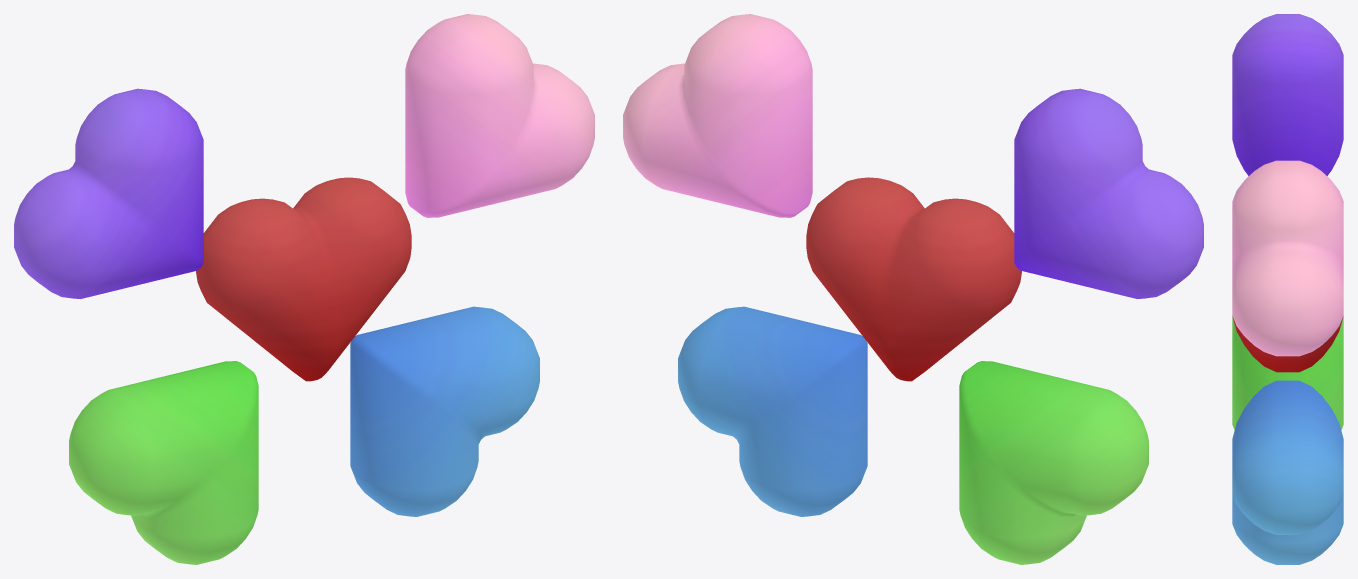
The model's file is heart.glb.
3 views of the same model, side by side, from view 1: azimuth 30°, elevation 25°; view 2: azimuth 150°, elevation 25°; view 3: azimuth 270°, elevation 25° (orthographic). The views are drawn at different scales.
Visible parts, largest first — view 1: heart_blue, heart_purple, heart_pink, heart_green, heart_red; view 2: heart_blue, heart_purple, heart_pink, heart_green, heart_red; view 3: heart_pink, heart_blue, heart_purple, heart_green, heart_red.
Part boxes in pixels (x1,y1,x2,y2): heart_blue: [350, 306, 539, 516]; heart_purple: [14, 88, 203, 298]; heart_pink: [405, 14, 594, 217]; heart_green: [69, 361, 258, 564]; heart_red: [196, 177, 411, 381]; heart_blue: [678, 306, 867, 516]; heart_purple: [1014, 88, 1203, 298]; heart_pink: [623, 14, 812, 217]; heart_green: [959, 361, 1148, 564]; heart_red: [806, 177, 1021, 381]; heart_pink: [1232, 160, 1343, 356]; heart_blue: [1232, 380, 1343, 564]; heart_purple: [1232, 14, 1343, 175]; heart_green: [1232, 316, 1343, 429]; heart_red: [1232, 316, 1343, 372].
Bounding box in the file's own units: 2 × 1.63 × 0.3912.
1 material, 1 textured.
